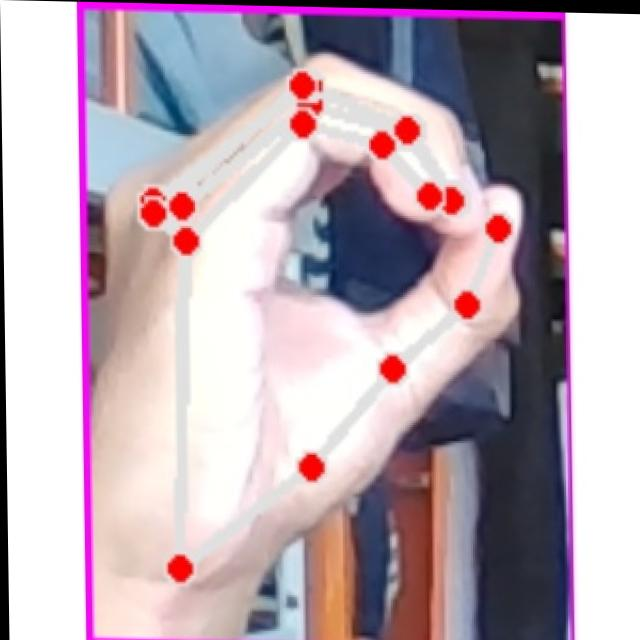O: (87, 17, 545, 589)
